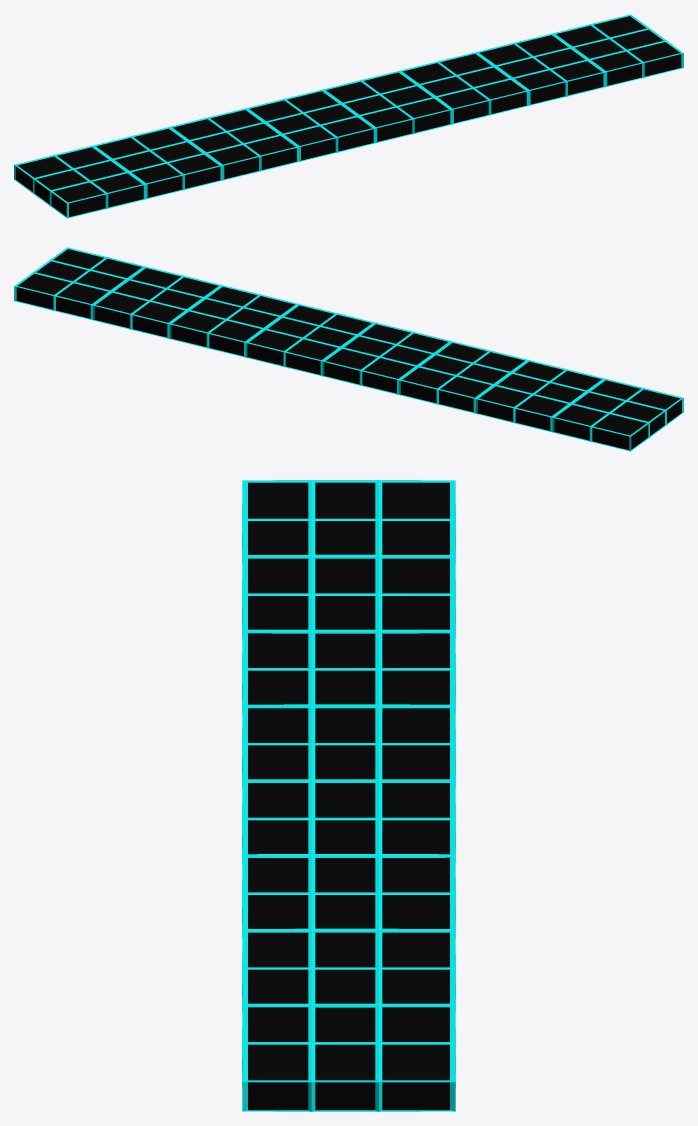
The picture shows the model from 3 angles, top to bottom: view 1: azimuth 30°, elevation 25°; view 2: azimuth 150°, elevation 25°; view 3: azimuth 270°, elevation 25°; orthographic projection. The views are drawn at different scales.
Visible parts, largest first — view 1: Cube; view 2: Cube; view 3: Cube.
Boxes of the visible parts, bbox=[...] form: Cube: bbox=[14, 14, 683, 218]; Cube: bbox=[14, 247, 683, 451]; Cube: bbox=[242, 480, 455, 1111].
Size of the model in its own units: 724 by 112 by 4821.
